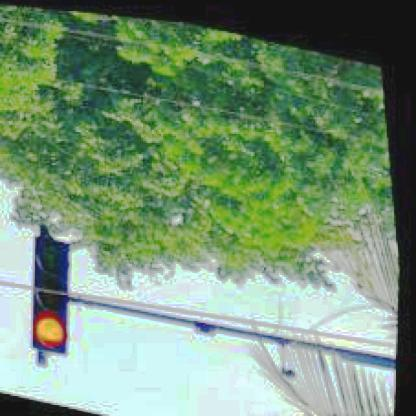Traffic Light -Red-: (26, 234, 84, 356)
